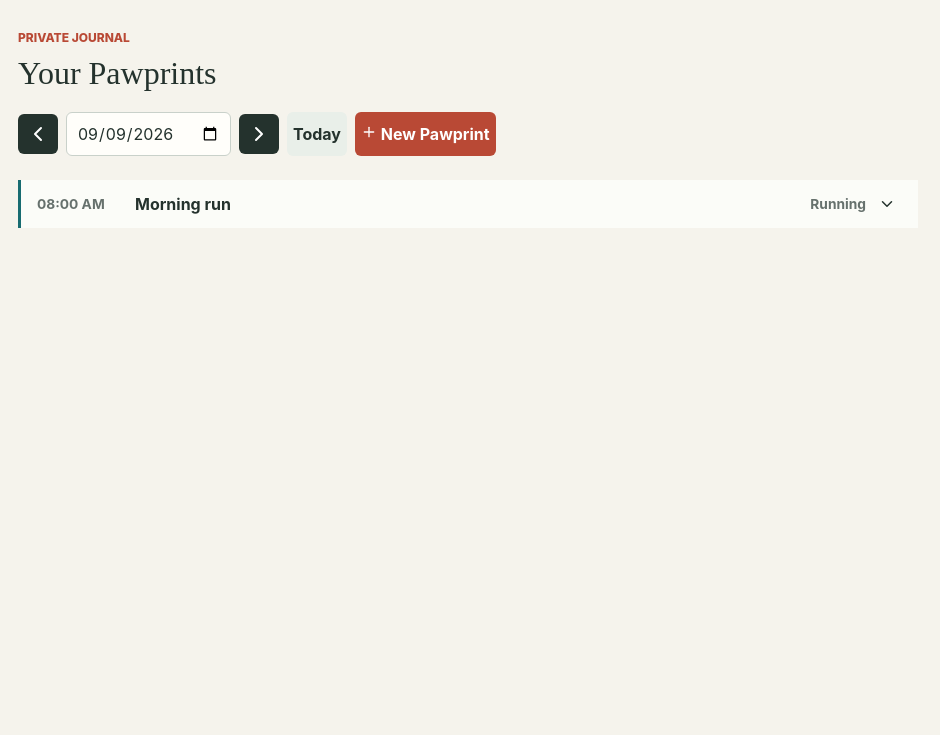
it: TimelinePage › hides the timeline for edit and restores the selected date and current row on cancel
Expected: the text "Morning run" is shown, [135, 194, 231, 214]
Click the button "08:00 AM Morning run Running".
click(71, 204)  # box [21, 180, 918, 228]
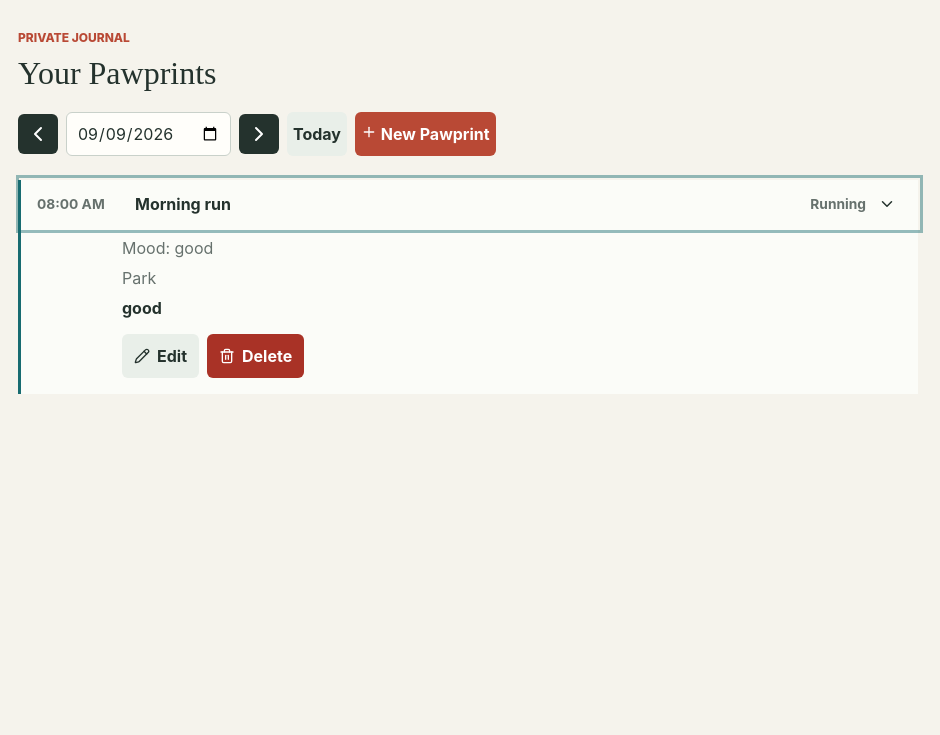
Click the button with aria-label "Edit Morning run".
click(160, 356)  # box [122, 334, 199, 378]
(page scrolled)
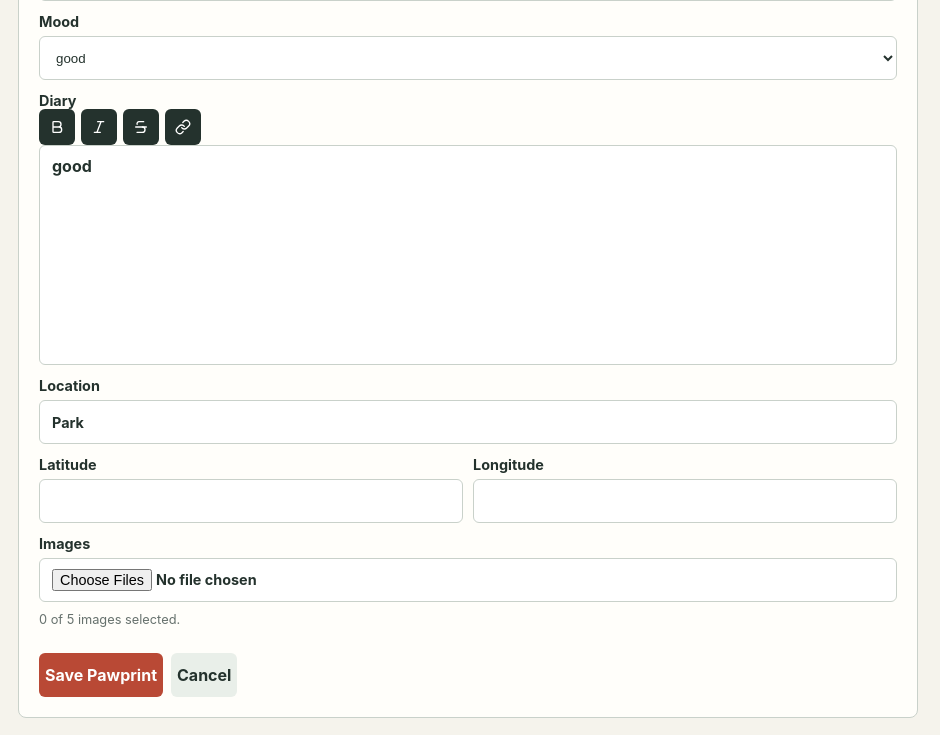
Click the button "Cancel".
click(204, 675)  # box [171, 653, 237, 697]
(page scrolled)
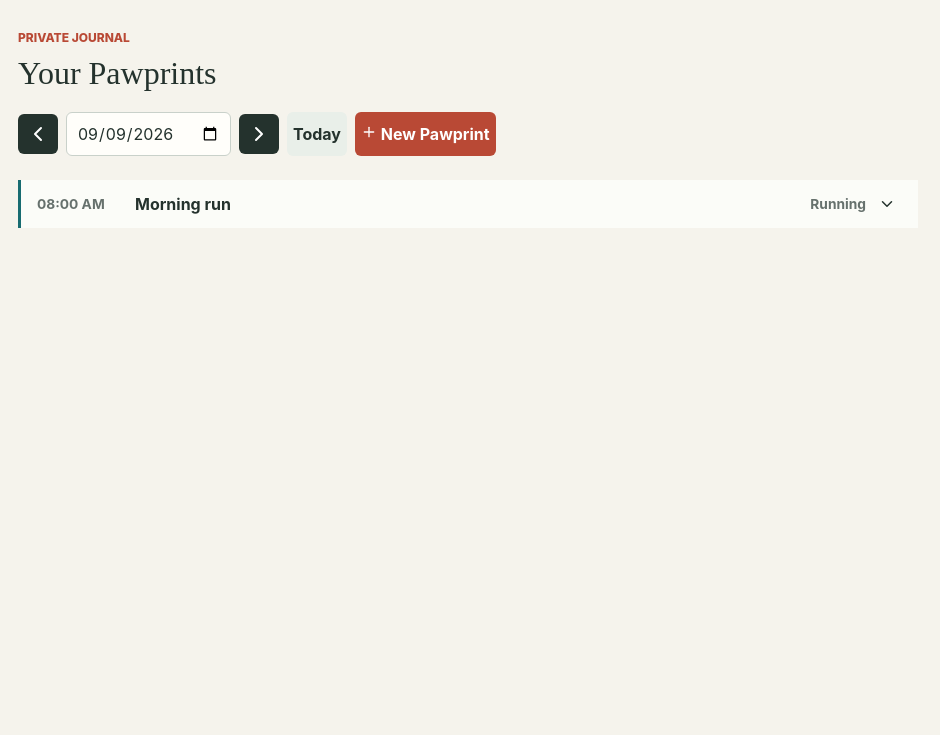
Now the text "Morning run" is shown, box [135, 194, 231, 214]
Now the date field named "Timeline date" holds "2026-09-09", box [66, 112, 231, 156]
